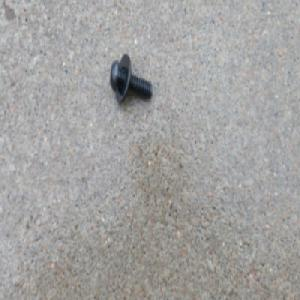BoltWasher: (108, 52, 152, 103)
